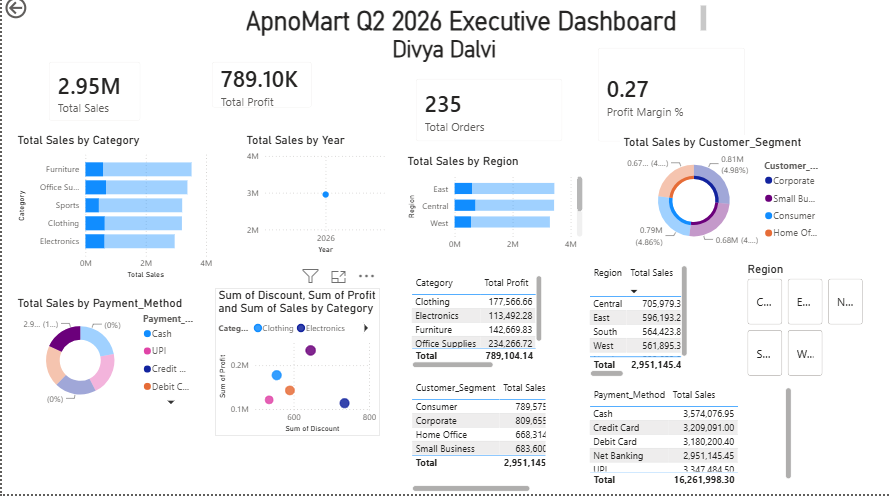

The dashboard page shown, as its layout file describes it:
{"tool":"powerbi","page":{"name":"Page 1","canvas":[1280,720],"ordinal":0},"visuals":[{"type":"textbox","box":[347.7,11.8,671.9,57.1],"z":0},{"type":"textbox","box":[557.7,55.4,199.9,48.7],"z":1},{"type":"cardVisual","fields":{"Data":["apnomart-sales-data.Total Sales"]},"box":[50.4,80.6,166.3,119.3],"z":2},{"type":"cardVisual","fields":{"Data":["apnomart-sales-data.Total Profit"]},"box":[285.6,80.6,178.1,100.8],"z":3},{"type":"cardVisual","fields":{"Data":["apnomart-sales-data.Total Orders"]},"box":[579.5,105.8,245.2,124.3],"z":4},{"type":"cardVisual","fields":{"Data":["apnomart-sales-data.Profit Margin %"]},"box":[841.6,60.5,246.9,169.7],"z":5},{"type":"clusteredBarChart","fields":{"Category":["apnomart-sales-data.Category"],"Y":["apnomart-sales-data.Total Sales"]},"box":[16.8,199.9,290.6,215],"z":6},{"type":"lineChart","fields":{"Category":["apnomart-sales-data.Order_Date.Variation.Date Hierarchy.Year","apnomart-sales-data.Order_Date.Variation.Date Hierarchy.Quarter","apnomart-sales-data.Order_Date.Variation.Date Hierarchy.Month","apnomart-sales-data.Order_Date.Variation.Date Hierarchy.Day"],"Y":["apnomart-sales-data.Total Sales"]},"box":[347.7,199.9,210,178.1],"z":7},{"type":"barChart","fields":{"Category":["apnomart-sales-data.Region"],"Y":["apnomart-sales-data.Total Sales"]},"box":[579.5,230.1,262,147.8],"z":8},{"type":"donutChart","fields":{"Category":["apnomart-sales-data.Customer_Segment"],"Y":["apnomart-sales-data.Total Sales"]},"box":[890.3,203.3,300.7,169.7],"z":9},{"type":"donutChart","fields":{"Category":["apnomart-sales-data.Payment_Method"],"Y":["apnomart-sales-data.Total Sales"]},"box":[16.8,435.1,268.8,166.3],"z":10},{"type":"scatterChart","fields":{"X":["Sum(apnomart-sales-data.Discount)"],"Y":["Sum(apnomart-sales-data.Profit)"],"Size":["Sum(apnomart-sales-data.Sales)"],"Series":["apnomart-sales-data.Category"]},"box":[307.4,423.3,236.9,213.3],"z":11},{"type":"tableEx","fields":{"Values":["apnomart-sales-data.Category","apnomart-sales-data.Total Profit","apnomart-sales-data.Total Sales"]},"box":[584.6,399.8,198.2,142.8],"z":12},{"type":"actionButton","box":[0,0,100,40],"z":13},{"type":"tableEx","fields":{"Values":["apnomart-sales-data.Region","apnomart-sales-data.Total Sales","apnomart-sales-data.Total Profit","Sum(apnomart-sales-data.Profit_Margin)"]},"box":[841.6,386.4,151.2,169.7],"z":14},{"type":"tableEx","fields":{"Values":["apnomart-sales-data.Customer_Segment","apnomart-sales-data.Total Sales"]},"box":[584.6,551,203.3,169.7],"z":15},{"type":"tableEx","fields":{"Values":["apnomart-sales-data.Payment_Method","apnomart-sales-data.Total Sales"]},"box":[841.6,561,300.7,151.2],"z":16},{"type":"advancedSlicerVisual","fields":{"Values":["apnomart-sales-data.Region"]},"box":[1068.3,386.4,176.4,169.7],"z":17}]}

Visuals, with their boxes on the page's 1280x720 design canvas (x1, y1, x2, y2). These are canvas units, not pixel positions in the 890x496 screenshot, which may show the page scaled, cropped or inside an application window:
textbox: region(348, 12, 1020, 69)
textbox: region(558, 55, 758, 104)
cardVisual - apnomart-sales-data.Total Sales: region(50, 81, 217, 200)
cardVisual - apnomart-sales-data.Total Profit: region(286, 81, 464, 181)
cardVisual - apnomart-sales-data.Total Orders: region(580, 106, 825, 230)
cardVisual - apnomart-sales-data.Profit Margin %: region(842, 60, 1088, 230)
clusteredBarChart - apnomart-sales-data.Category x apnomart-sales-data.Total Sales: region(17, 200, 307, 415)
lineChart - apnomart-sales-data.Order_Date.Variation.Date Hierarchy.Year x apnomart-sales-data.Order_Date.Variation.Date Hierarchy.Quarter: region(348, 200, 558, 378)
barChart - apnomart-sales-data.Region x apnomart-sales-data.Total Sales: region(580, 230, 842, 378)
donutChart - apnomart-sales-data.Customer_Segment x apnomart-sales-data.Total Sales: region(890, 203, 1191, 373)
donutChart - apnomart-sales-data.Payment_Method x apnomart-sales-data.Total Sales: region(17, 435, 286, 601)
scatterChart - Sum(apnomart-sales-data.Discount) x Sum(apnomart-sales-data.Profit): region(307, 423, 544, 637)
tableEx - apnomart-sales-data.Category x apnomart-sales-data.Total Profit: region(585, 400, 783, 543)
actionButton: region(0, 0, 100, 40)
tableEx - apnomart-sales-data.Region x apnomart-sales-data.Total Sales: region(842, 386, 993, 556)
tableEx - apnomart-sales-data.Customer_Segment x apnomart-sales-data.Total Sales: region(585, 551, 788, 721)
tableEx - apnomart-sales-data.Payment_Method x apnomart-sales-data.Total Sales: region(842, 561, 1142, 712)
advancedSlicerVisual - apnomart-sales-data.Region: region(1068, 386, 1245, 556)
